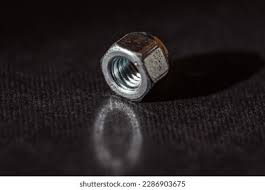Thread: (107, 51, 148, 95)
